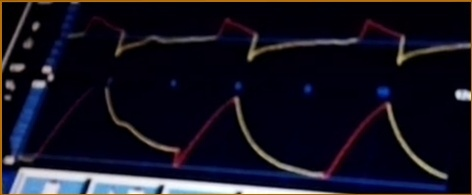Ineffective_effort Flow: (69, 11, 470, 66)
Ineffective_effort Volume: (19, 88, 448, 180)
